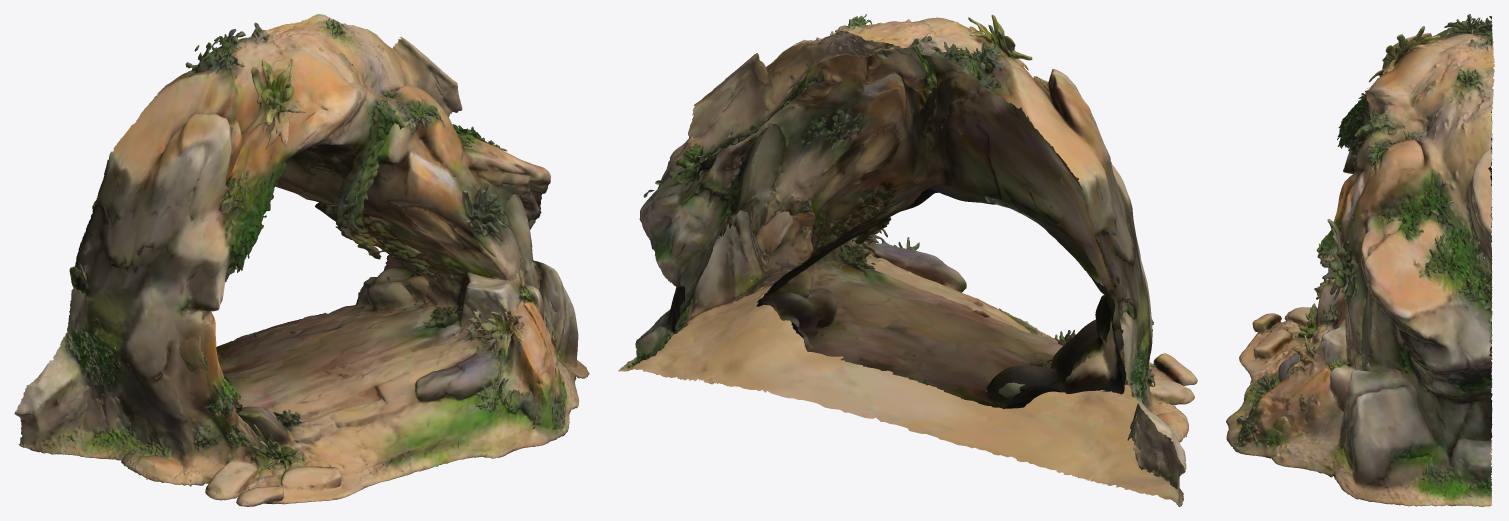
The model's file is cavemouth3.glb.
The picture shows the model from 3 angles, left to right: view 1: azimuth 30°, elevation 25°; view 2: azimuth 150°, elevation 25°; view 3: azimuth 270°, elevation 25°; orthographic projection. The views are drawn at different scales.
Parts seen in each view (by area): view 1: Mesh_0; view 2: Mesh_0; view 3: Mesh_0.
Boxes of the visible parts, x1,y1,x2,y2 form: Mesh_0: [14, 14, 589, 506]; Mesh_0: [618, 14, 1197, 506]; Mesh_0: [1226, 14, 1494, 506].
Bounding box in the file's own units: 1.86 × 1.28 × 0.8943.
Materials: 1 (1 with a texture image).
